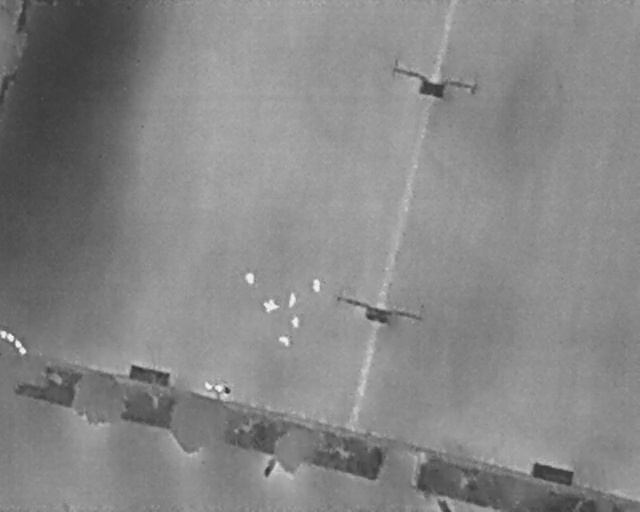Person: (264, 299, 280, 313), (286, 292, 296, 308), (279, 335, 291, 347), (245, 271, 255, 285), (312, 279, 321, 294), (291, 315, 300, 329)
